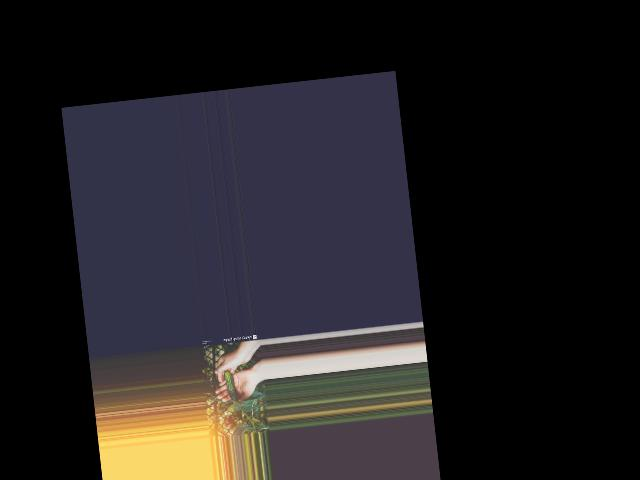cucumber: (223, 370, 238, 401)
